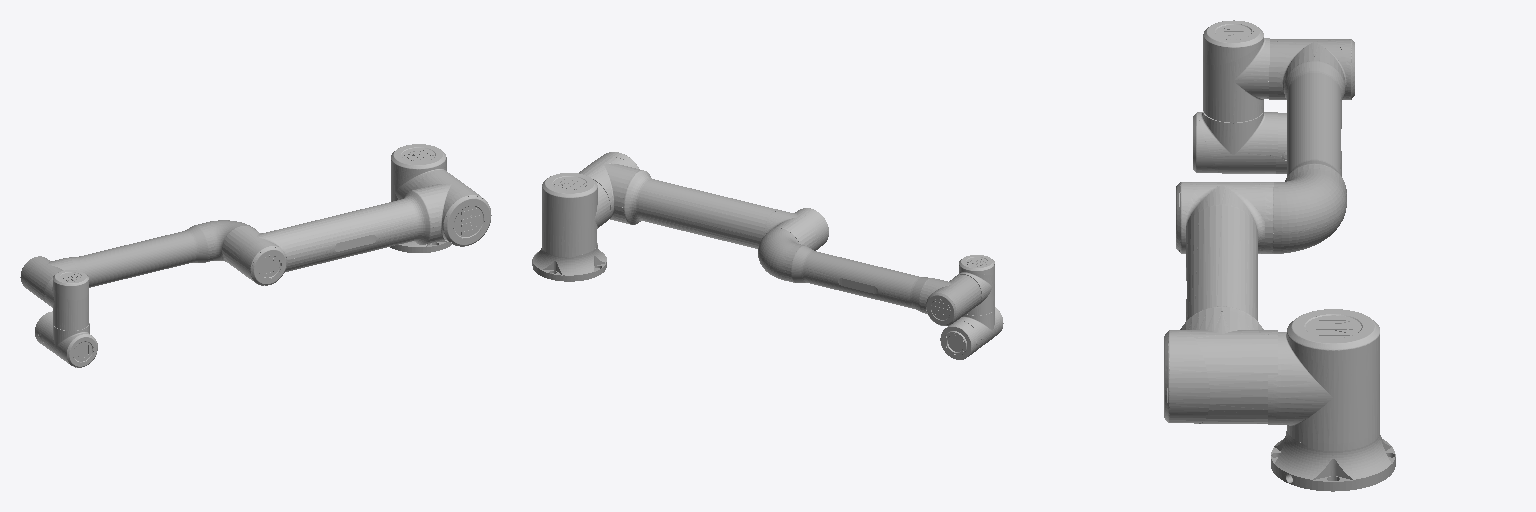
robot.urdf — iimt10:
<?xml version="1.0" encoding="utf-8"?>
<!-- This URDF was automatically created by SolidWorks to URDF Exporter! Originally created by Stephen Brawner (brawner@gmail.com) 
     Commit Version: 1.6.0-4-g7f85cfe  Build Version: 1.6.7995.38578
     For more information, please see http://wiki.ros.org/sw_urdf_exporter -->
<robot
  name="iimt10">
  <link
    name="base_link">
    <inertial>
      <origin
        xyz="0.00047269 -0.0004676 0.02738"
        rpy="0 0 0" />
      <mass
        value="2.3031" />
      <inertia
        ixx="0.0069162"
        ixy="-5.9574E-05"
        ixz="2.09E-05"
        iyy="0.0069278"
        iyz="-1.9861E-05"
        izz="0.012216" />
    </inertial>
    <visual>
      <origin
        xyz="0 0 0"
        rpy="0 0 0" />
      <geometry>
        <mesh
          filename="package://iimt_ros2_description/meshes/iimt10/visual/base_link.dae" />
      </geometry>
      <material
        name="">
        <color
          rgba="0.69804 0.69804 0.69804 1" />
      </material>
    </visual>
    <collision>
      <origin
        xyz="0 0 0"
        rpy="0 0 0" />
      <geometry>
        <mesh
          filename="package://iimt_ros2_description/meshes/iimt10/collision/base_link.stl" />
      </geometry>
    </collision>
  </link>
  <link
    name="shoulder_link">
    <inertial>
      <origin
        xyz="5.30985756371699E-05 -0.00412922343942951 -0.0290762067863636"
        rpy="0 0 0" />
      <mass
        value="10.2915484040363" />
      <inertia
        ixx="0.0170461354869504"
        ixy="6.94859190531398E-06"
        ixz="-1.68942511450288E-06"
        iyy="0.0172630960585954"
        iyz="0.000519058274477763"
        izz="0.0252578855389234" />
    </inertial>
    <visual>
      <origin
        xyz="0 0 0"
        rpy="0 0 0" />
      <geometry>
        <mesh
          filename="package://iimt_ros2_description/meshes/iimt10/visual/shoulder_link.dae" />
      </geometry>
      <material
        name="">
        <color
          rgba="0.752941176470588 0.752941176470588 0.752941176470588 1" />
      </material>
    </visual>
    <collision>
      <origin
        xyz="0 0 0"
        rpy="0 0 0" />
      <geometry>
        <mesh
          filename="package://iimt_ros2_description/meshes/iimt10/collision/shoulder_link.stl" />
      </geometry>
    </collision>
  </link>
  <joint
    name="shoulder_joint"
    type="revolute">
    <origin
      xyz="0 0 0.1555"
      rpy="0 0 0" />
    <parent
      link="base_link" />
    <child
      link="shoulder_link" />
    <axis
      xyz="0 0 1" />
    <limit
      lower="-6.2832"
      upper="6.2832"
      effort="300"
      velocity="2.6167" />
  </joint>
  <link
    name="upper_arm_link">
    <inertial>
      <origin
        xyz="-0.19406 -2.2321E-05 0.15562"
        rpy="0 0 0" />
      <mass
        value="17.366" />
      <inertia
        ixx="0.031093"
        ixy="-1.3371E-05"
        ixz="0.00032396"
        iyy="0.09183"
        iyz="1.2595E-07"
        izz="0.10205" />
    </inertial>
    <visual>
      <origin
        xyz="0 0 0"
        rpy="0 0 0" />
      <geometry>
        <mesh
          filename="package://iimt_ros2_description/meshes/iimt10/visual/upper_arm_link.dae" />
      </geometry>
      <material
        name="">
        <color
          rgba="0.75294 0.75294 0.75294 1" />
      </material>
    </visual>
    <collision>
      <origin
        xyz="0 0 0"
        rpy="0 0 0" />
      <geometry>
        <mesh
          filename="package://iimt_ros2_description/meshes/iimt10/collision/upper_arm_link.stl" />
      </geometry>
    </collision>
  </link>
  <joint
    name="upper_arm_joint"
    type="revolute">
    <origin
      xyz="0 0 0"
      rpy="1.5708 0 0" />
    <parent
      link="shoulder_link" />
    <child
      link="upper_arm_link" />
    <axis
      xyz="0 0 1" />
    <limit
      lower="-2.6167"
      upper="2.6167"
      effort="300"
      velocity="2.6167" />
  </joint>
  <link
    name="forearm_link">
    <inertial>
      <origin
        xyz="-0.37825 2.4948E-05 0.044414"
        rpy="0 0 0" />
      <mass
        value="6.6031" />
      <inertia
        ixx="0.008393"
        ixy="1.9756E-06"
        ixz="-0.0003407"
        iyy="0.042273"
        iyz="9.097E-07"
        izz="0.043318" />
    </inertial>
    <visual>
      <origin
        xyz="0 0 0"
        rpy="0 0 0" />
      <geometry>
        <mesh
          filename="package://iimt_ros2_description/meshes/iimt10/visual/fore_arm_link.dae" />
      </geometry>
      <material
        name="">
        <color
          rgba="0.69804 0.69804 0.69804 1" />
      </material>
    </visual>
    <collision>
      <origin
        xyz="0 0 0"
        rpy="0 0 0" />
      <geometry>
        <mesh
          filename="package://iimt_ros2_description/meshes/iimt10/collision/fore_arm_link.stl" />
      </geometry>
    </collision>
  </link>
  <joint
    name="forearm_joint"
    type="revolute">
    <origin
      xyz="-0.605 0 0"
      rpy="0 0 0" />
    <parent
      link="upper_arm_link" />
    <child
      link="forearm_link" />
    <axis
      xyz="0 0 1" />
    <limit
      lower="-2.8783"
      upper="2.8783"
      effort="150"
      velocity="2.6167" />
  </joint>
  <link
    name="wrist_1_link">
    <inertial>
      <origin
        xyz="4.35161297616116E-05 -0.0232971966317018 -0.00260405922948265"
        rpy="0 0 0" />
      <mass
        value="3.32734734469684" />
      <inertia
        ixx="0.00241961578599449"
        ixy="-9.28094268113245E-07"
        ixz="-6.97165735767584E-07"
        iyy="0.0032336768080465"
        iyz="0.000161339909667515"
        izz="0.00237893027617734" />
    </inertial>
    <visual>
      <origin
        xyz="0 0 0"
        rpy="0 0 0" />
      <geometry>
        <mesh
          filename="package://iimt_ros2_description/meshes/iimt10/visual/wrist_1_link.dae" />
      </geometry>
      <material
        name="">
        <color
          rgba="0.752941176470588 0.752941176470588 0.752941176470588 1" />
      </material>
    </visual>
    <collision>
      <origin
        xyz="0 0 0"
        rpy="0 0 0" />
      <geometry>
        <mesh
          filename="package://iimt_ros2_description/meshes/iimt10/collision/wrist_1_link.stl" />
      </geometry>
    </collision>
  </link>
  <joint
    name="wrist_1_joint"
    type="revolute">
    <origin
      xyz="-0.5645 0 0.16"
      rpy="0 0 0" />
    <parent
      link="forearm_link" />
    <child
      link="wrist_1_link" />
    <axis
      xyz="0 0 1" />
    <limit
      lower="-3.0528"
      upper="3.0528"
      effort="68"
      velocity="3.14" />
  </joint>
  <link
    name="wrist_2_link">
    <inertial>
      <origin
        xyz="-4.3516E-05 -0.023297 0.0026041"
        rpy="0 0 0" />
      <mass
        value="3.3273" />
      <inertia
        ixx="0.0024196"
        ixy="9.2809E-07"
        ixz="-6.9717E-07"
        iyy="0.0032337"
        iyz="-0.00016134"
        izz="0.0023789" />
    </inertial>
    <visual>
      <origin
        xyz="0 0 0"
        rpy="0 0 0" />
      <geometry>
        <mesh
          filename="package://iimt_ros2_description/meshes/iimt10/visual/wrist_2_link.dae" />
      </geometry>
      <material
        name="">
        <color
          rgba="0.75294 0.75294 0.75294 1" />
      </material>
    </visual>
    <collision>
      <origin
        xyz="0 0 0"
        rpy="0 0 0" />
      <geometry>
        <mesh
          filename="package://iimt_ros2_description/meshes/iimt10/collision/wrist_2_link.stl" />
      </geometry>
    </collision>
  </link>
  <joint
    name="wrist_2_joint"
    type="revolute">
    <origin
      xyz="0 -0.1305 0"
      rpy="-1.5708 3.1415926 0" />
    <parent
      link="wrist_1_link" />
    <child
      link="wrist_2_link" />
    <axis
      xyz="0 0 1" />
    <limit
      lower="-3.0528"
      upper="3.0528"
      effort="68"
      velocity="3.14" />
  </joint>
  <link
    name="wrist_3_link">
    <inertial>
      <origin
        xyz="-4.5132E-05 -1.6541E-05 -0.016846"
        rpy="0 0 0" />
      <mass
        value="0.51761" />
      <inertia
        ixx="0.00048935"
        ixy="1.181E-05"
        ixz="-7.7149E-08"
        iyy="0.00048548"
        iyz="3.546E-08"
        izz="0.00078164" />
    </inertial>
    <visual>
      <origin
        xyz="0 0 0"
        rpy="0 0 0" />
      <geometry>
        <mesh
          filename="package://iimt_ros2_description/meshes/iimt10/visual/wrist_3_link.dae" />
      </geometry>
      <material
        name="">
        <color
          rgba="0.75294 0.75294 0.75294 1" />
      </material>
    </visual>
    <collision>
      <origin
        xyz="0 0 0"
        rpy="0 0 0" />
      <geometry>
        <mesh
          filename="package://iimt_ros2_description/meshes/iimt10/collision/wrist_3_link.stl" />
      </geometry>
    </collision>
  </link>
  <joint
    name="wrist_3_joint"
    type="revolute">
    <origin
      xyz="0 -0.1174 0"
      rpy="1.5708 0 0" />
    <parent
      link="wrist_2_link" />
    <child
      link="wrist_3_link" />
    <axis
      xyz="0 0 -1" />
    <limit
      lower="-6.2832"
      upper="6.2832"
      effort="68"
      velocity="3.14" />
  </joint>
</robot>

--- What the picture shows (computed from the rendered views, not written in the file) ---
Views: 3 orthographic renders of the robot side by side, from view 1: azimuth 30°, elevation 25°; view 2: azimuth 150°, elevation 25°; view 3: azimuth 270°, elevation 25°.
Model iimt10 with 7 links and 6 joints (6 revolute), rooted at base_link, posed every joint at zero.
Visible links, largest first — view 1: upper_arm_link, forearm_link, wrist_1_link, shoulder_link, wrist_2_link; view 2: upper_arm_link, forearm_link, shoulder_link, base_link, wrist_1_link, wrist_3_link, wrist_2_link; view 3: upper_arm_link, forearm_link, shoulder_link, wrist_1_link, base_link, wrist_2_link, wrist_3_link.
Link boxes in pixels (x1,y1,x2,y2): upper_arm_link: (222,171,491,285); forearm_link: (20,220,255,305); wrist_1_link: (44,270,88,330); shoulder_link: (391,144,446,201); wrist_2_link: (42,319,97,367); upper_arm_link: (579,152,828,250); forearm_link: (758,228,981,325); shoulder_link: (542,173,611,257); base_link: (532,243,606,281); wrist_1_link: (955,255,994,315); wrist_3_link: (940,321,979,359); wrist_2_link: (957,307,1003,349); upper_arm_link: (1164,182,1277,423); forearm_link: (1267,39,1354,253); shoulder_link: (1268,309,1379,450); wrist_1_link: (1203,20,1269,122); base_link: (1271,431,1395,491); wrist_2_link: (1193,111,1277,173); wrist_3_link: (1276,113,1286,173).
Bounding box of the posed robot: 1.32 × 0.3706 × 0.271 m (x, y, z).
7 mesh visuals loaded from 7 distinct referenced files (7 Collada DAE).
